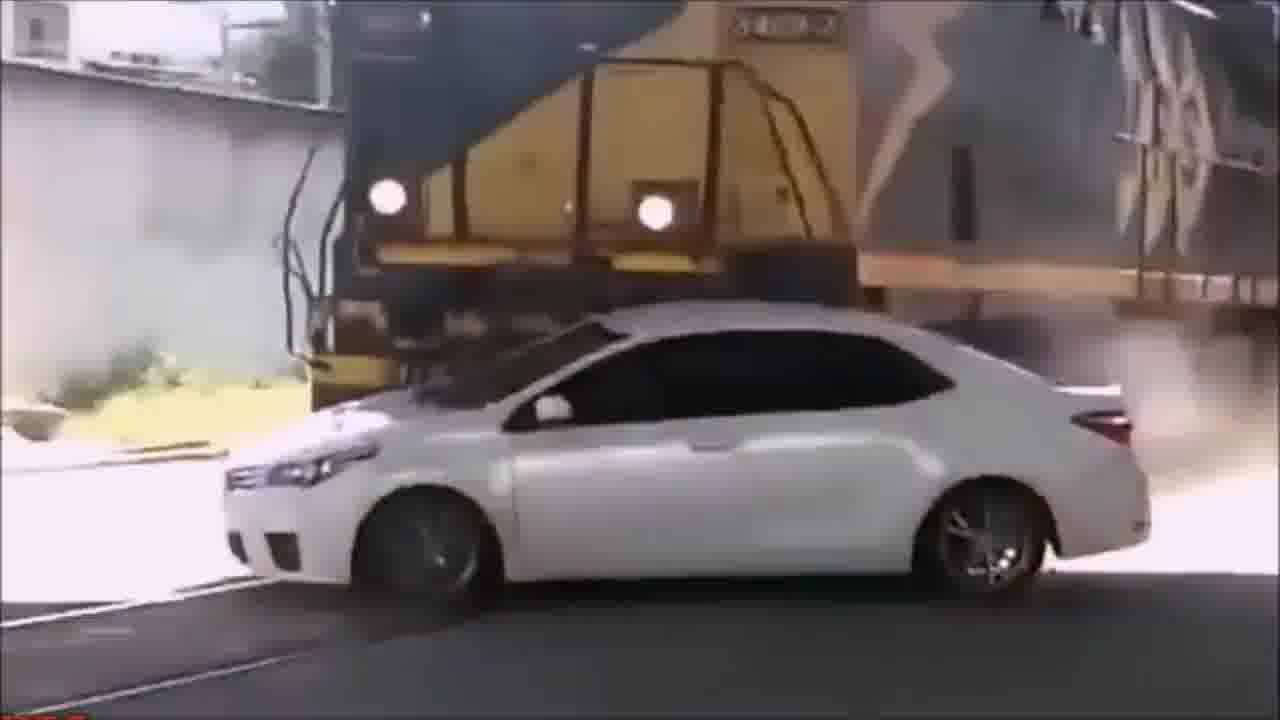crossing railway track: (194, 294, 1164, 634)
